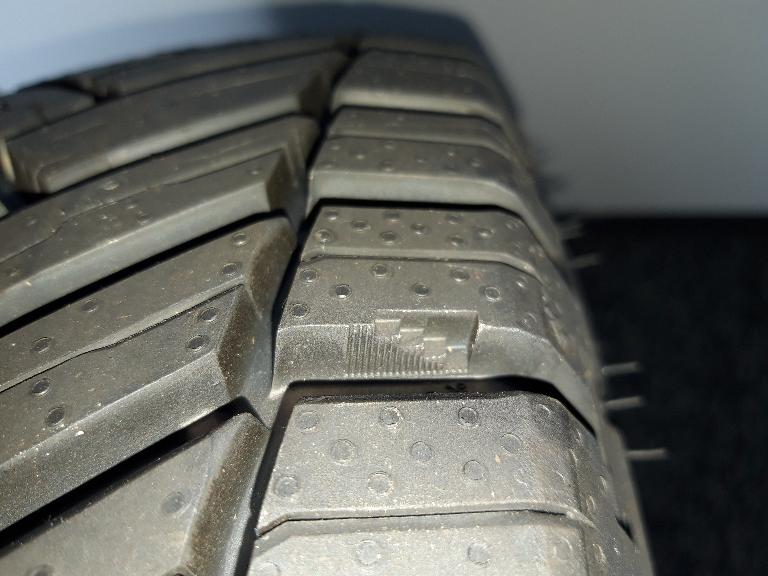temoin:100: (340, 304, 488, 383)
